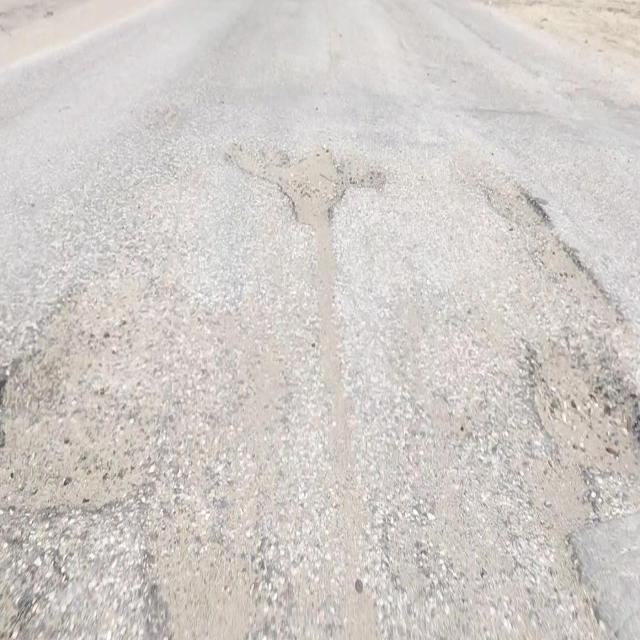Potholes: (0, 279, 149, 521), (528, 340, 640, 479), (135, 519, 263, 640), (276, 134, 350, 224), (482, 184, 551, 230), (224, 136, 278, 181)
